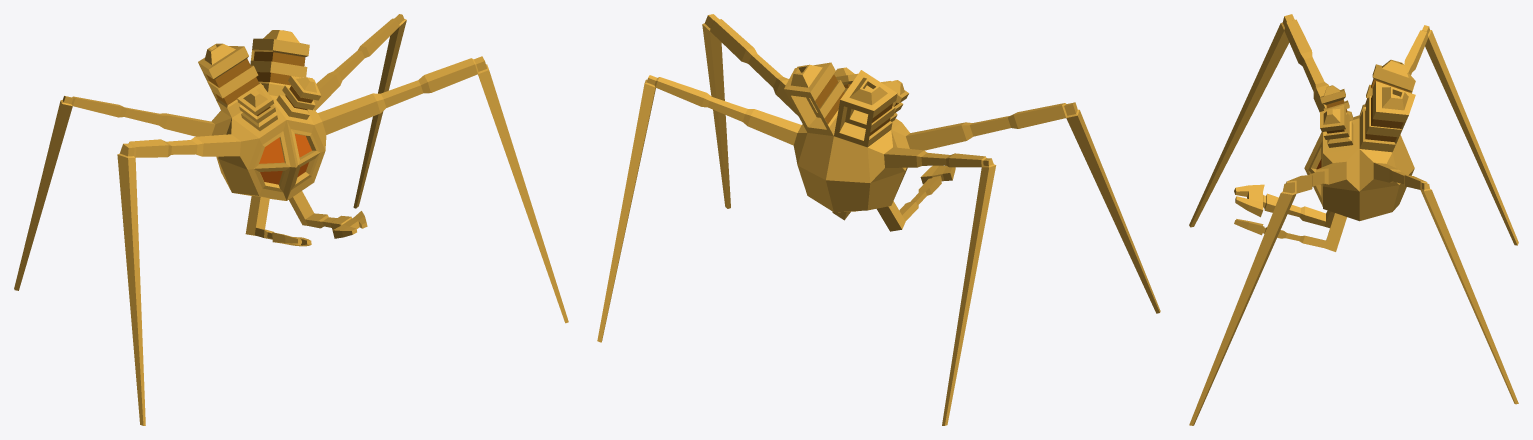
File: RobotCrapStatue.fbx
The picture shows the model from 3 angles, left to right: view 1: azimuth 30°, elevation 25°; view 2: azimuth 150°, elevation 25°; view 3: azimuth 270°, elevation 25°; orthographic projection. The views are drawn at different scales.
Parts seen in each view (by area): view 1: Cube; view 2: Cube; view 3: Cube.
Boxes of the visible parts, <box> form: Cube: <box>14,14,568,425</box>; Cube: <box>597,14,1160,425</box>; Cube: <box>1189,14,1518,425</box>.
Size of the model in its own units: 1445 by 844 by 999.
